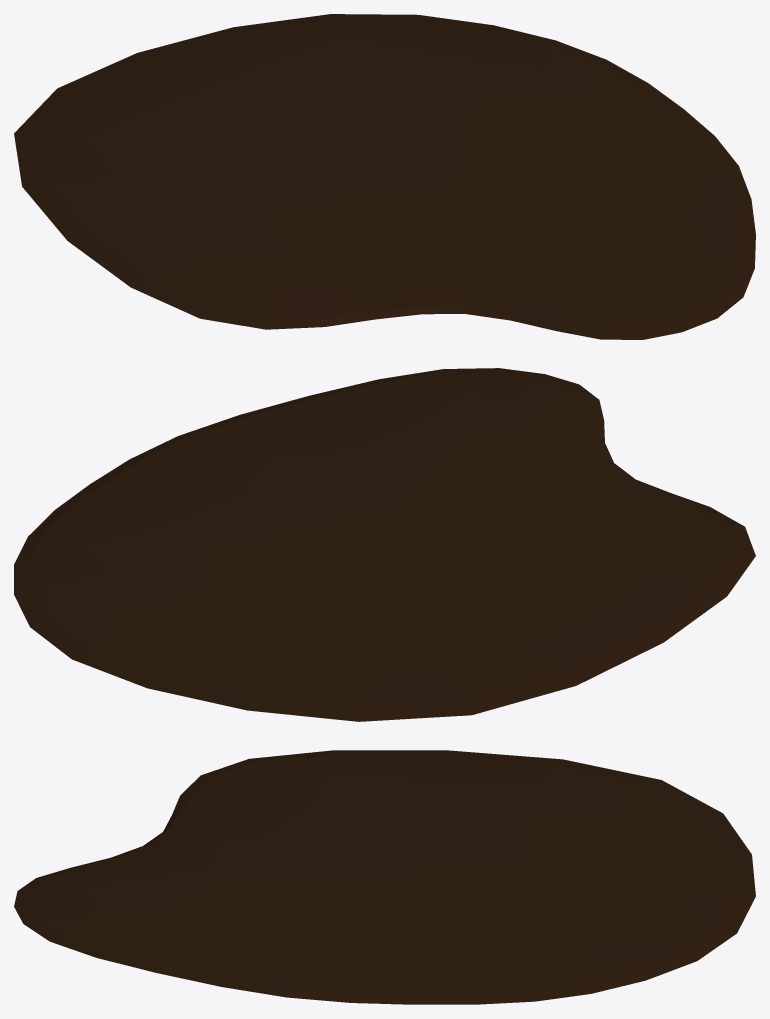
The model's file is puddle_model.glb.
3 views of the same model, one above another, from view 1: azimuth 30°, elevation 25°; view 2: azimuth 150°, elevation 25°; view 3: azimuth 270°, elevation 25° (orthographic). The views are drawn at different scales.
Visible parts, largest first — view 1: Cube; view 2: Cube; view 3: Cube.
Part boxes in pixels (x1,y1,x2,y2): Cube: (14, 14, 755, 339); Cube: (14, 368, 755, 721); Cube: (14, 750, 755, 1004).
Bounding box in the file's own units: 15.55 × 0.5162 × 19.15.
